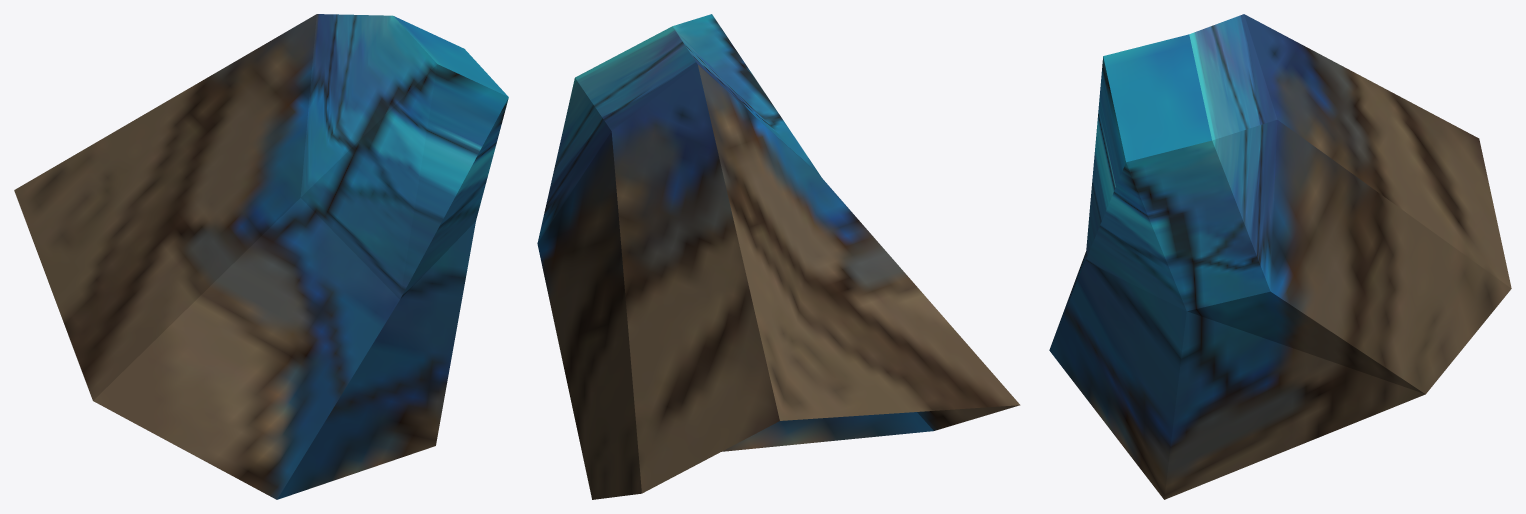
3 renders of one model, left to right at view 1: azimuth 30°, elevation 25°; view 2: azimuth 150°, elevation 25°; view 3: azimuth 270°, elevation 25°, orthographic. The views are drawn at different scales.
Visible parts, largest first — view 1: Object005; view 2: Object005; view 3: Object005.
Boxes of the visible parts, x1,y1,x2,y2 form: Object005: [14, 14, 508, 499]; Object005: [537, 14, 1020, 499]; Object005: [1049, 14, 1511, 499].
Size of the model in its own units: 124 by 125 by 116.
